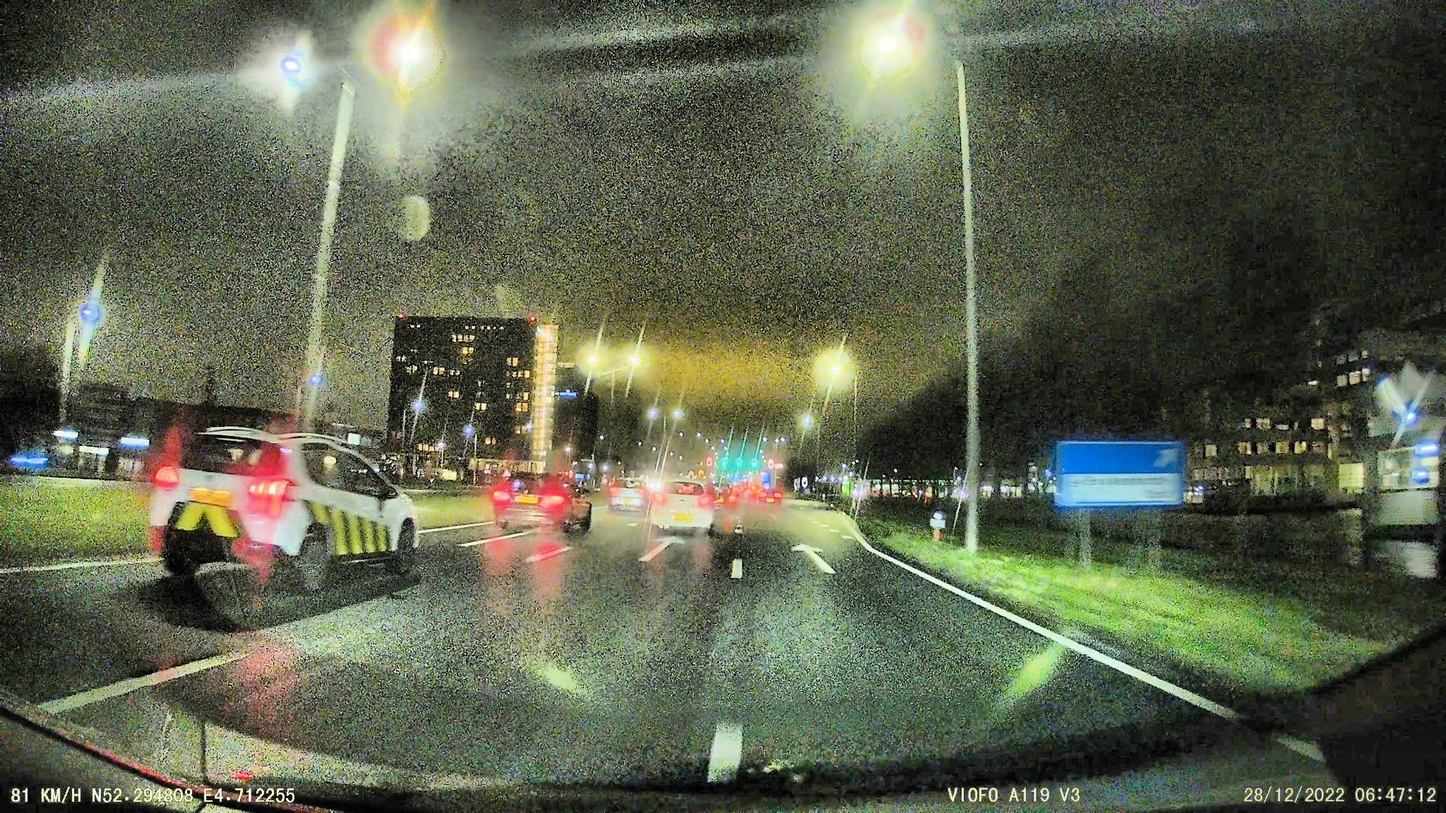Roads: (0, 507, 1241, 795)
